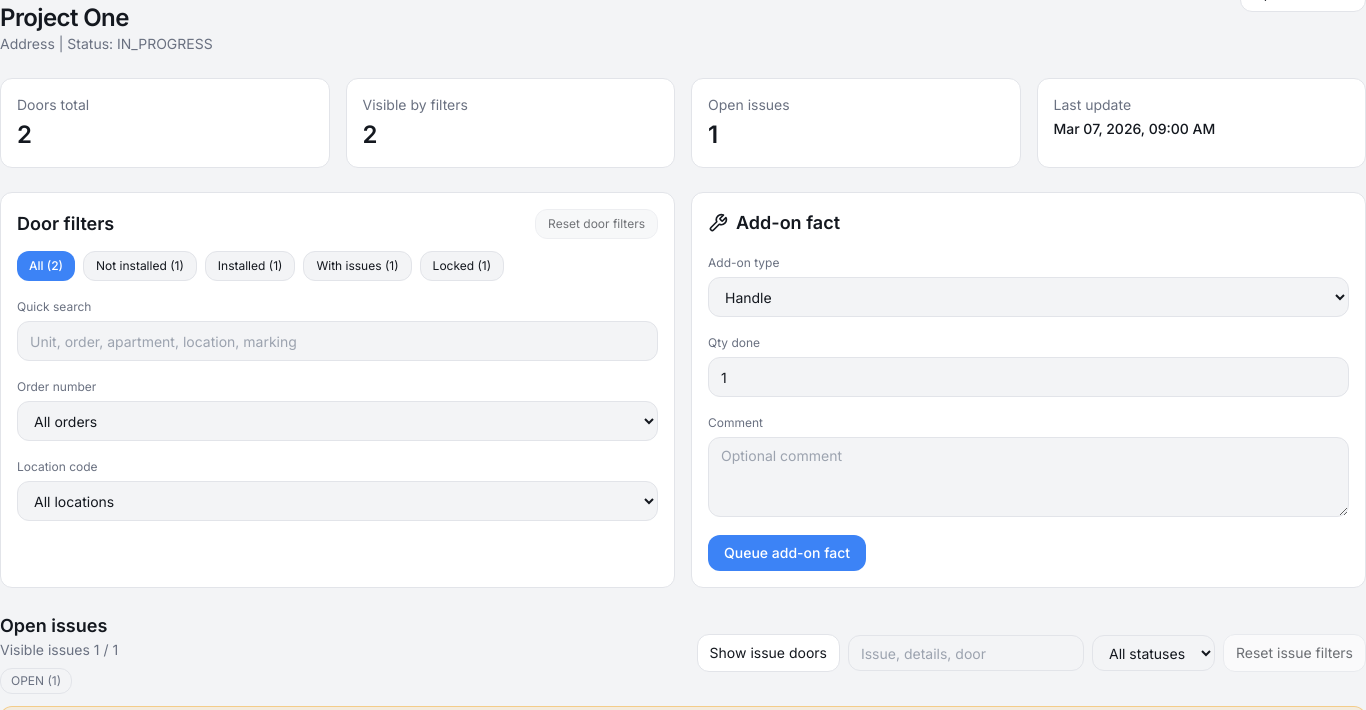
InstallerProjectPage › shows sticky door summary bar and resets filters from it
In the field with placeholder "Unit, order, apartment, location, marking": (338, 341) [17,321,658,361], type "A-101"
(page scrolled)
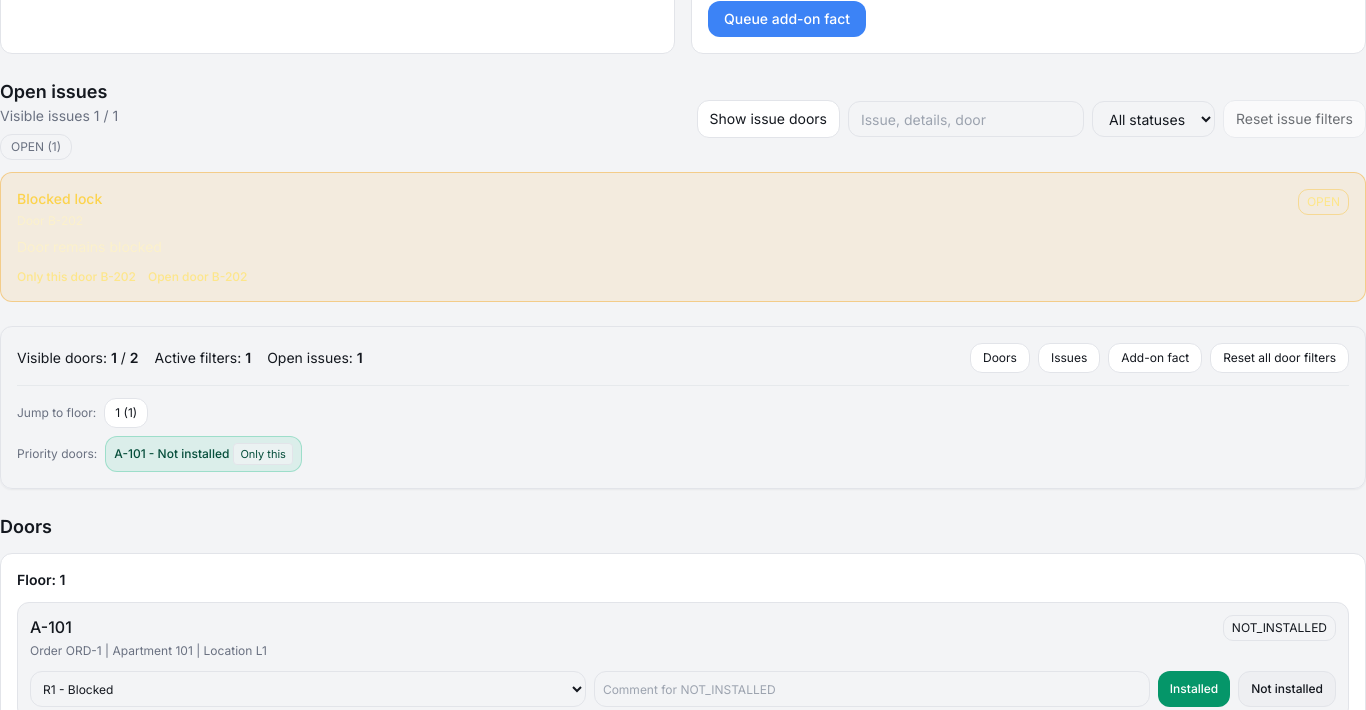
Expected: the element named "Door summary bar" shows "Visible doors: 1 / 2", [0,326,1365,489]
Expected: the element named "Door summary bar" shows "Active filters: 1", [0,326,1365,489]
Click the button "Reset all door filters": (1280, 358) [1210,343,1349,373]
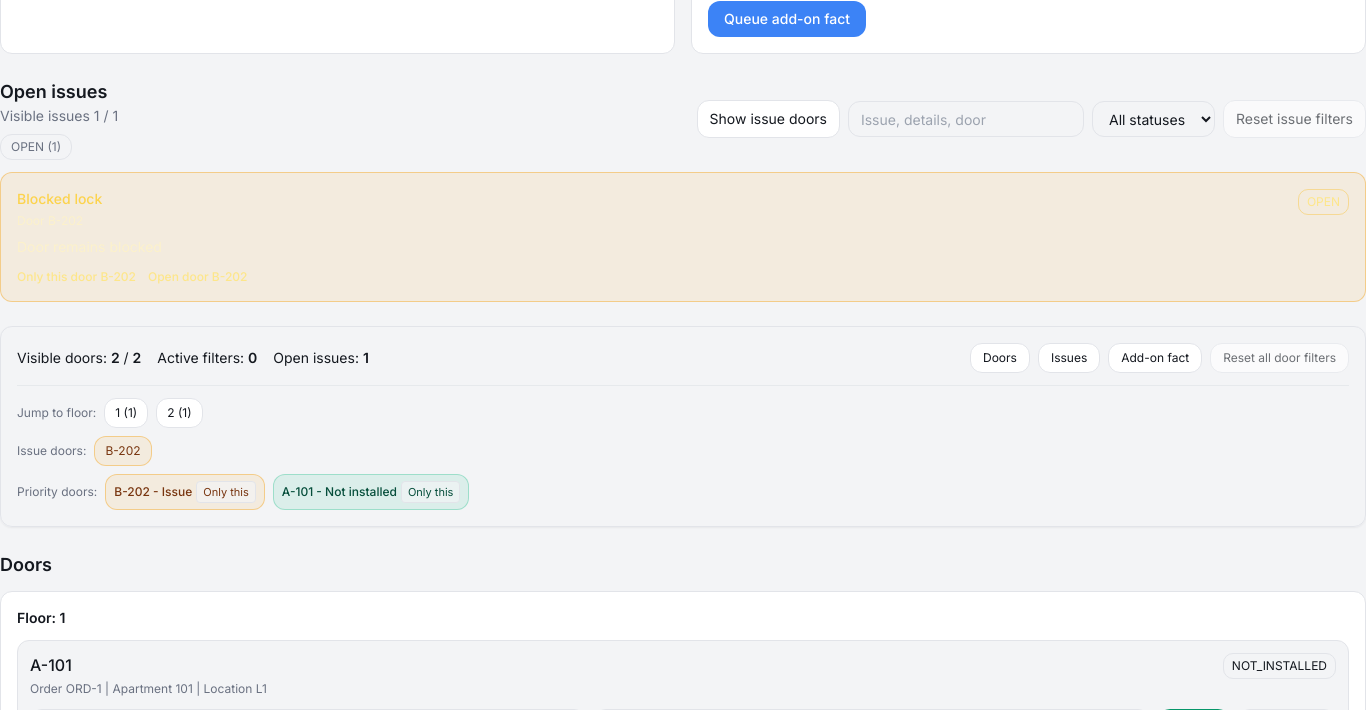
Expected: the element named "Door summary bar" shows "Visible doors: 2 / 2", [0,326,1365,527]
Expected: the element named "Door summary bar" shows "Active filters: 0", [0,326,1365,527]
Expected: the link "B-202" is shown, [94,436,152,466]
